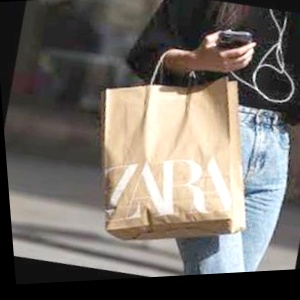zara: (200, 59, 290, 207)
